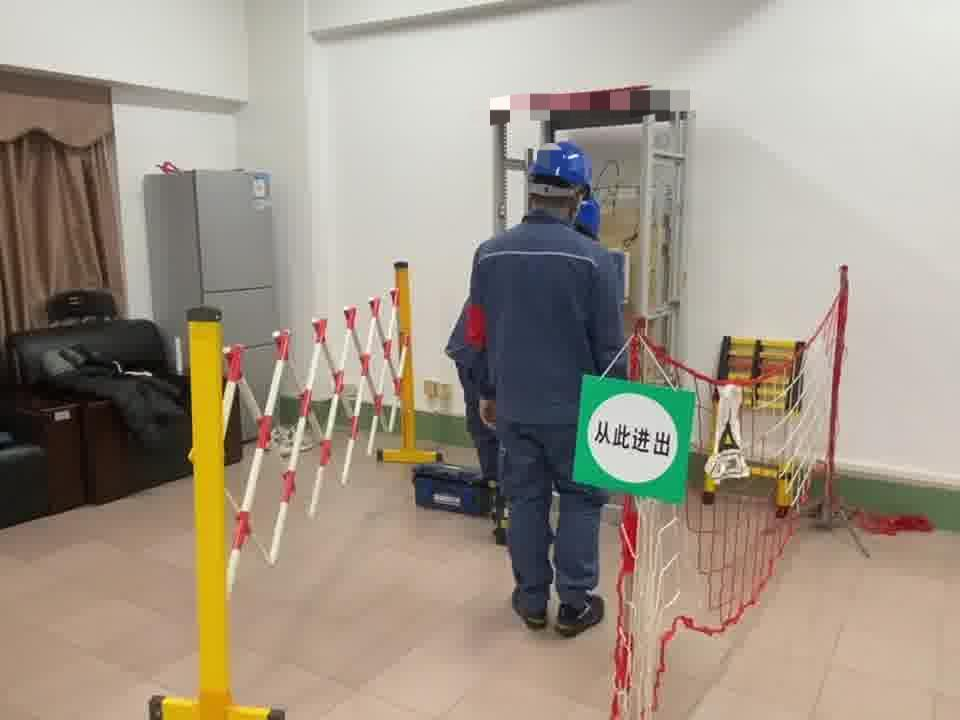halt: (527, 142, 597, 217)
